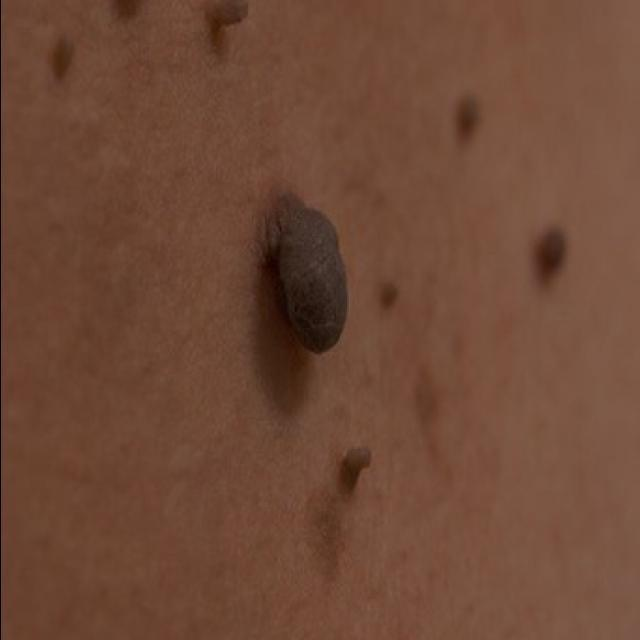wart: (247, 174, 363, 378), (322, 422, 391, 502), (210, 0, 261, 67), (90, 0, 168, 26)
